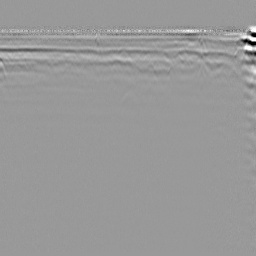cavity: (120, 88, 138, 106)
